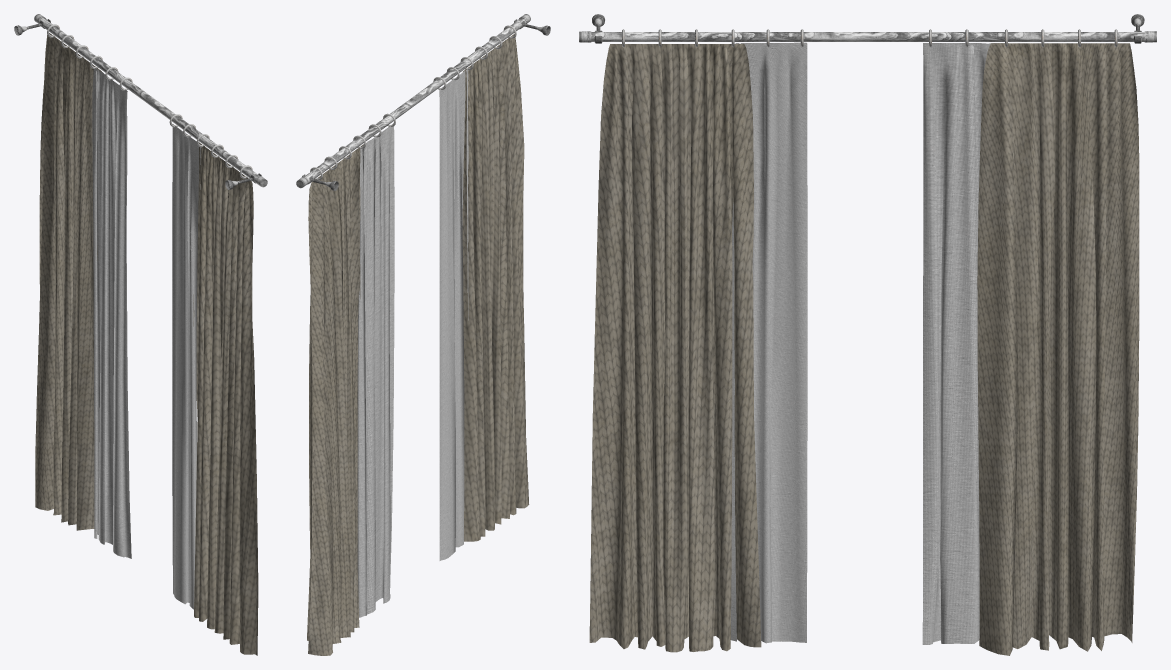
The model's file is SM_Curtains_A2.fbx.
3 renders of one model, left to right at view 1: azimuth 30°, elevation 25°; view 2: azimuth 150°, elevation 25°; view 3: azimuth 270°, elevation 25°, orthographic. The views are drawn at different scales.
Visible parts, largest first — view 1: SM_Curtains_A2; view 2: SM_Curtains_A2; view 3: SM_Curtains_A2.
Boxes of the visible parts, x1,y1,x2,y2 form: SM_Curtains_A2: [14, 14, 267, 655]; SM_Curtains_A2: [296, 14, 550, 655]; SM_Curtains_A2: [579, 14, 1156, 655].
Size of the model in its own units: 24.24 by 190 by 223.
5 materials, 5 textured.
